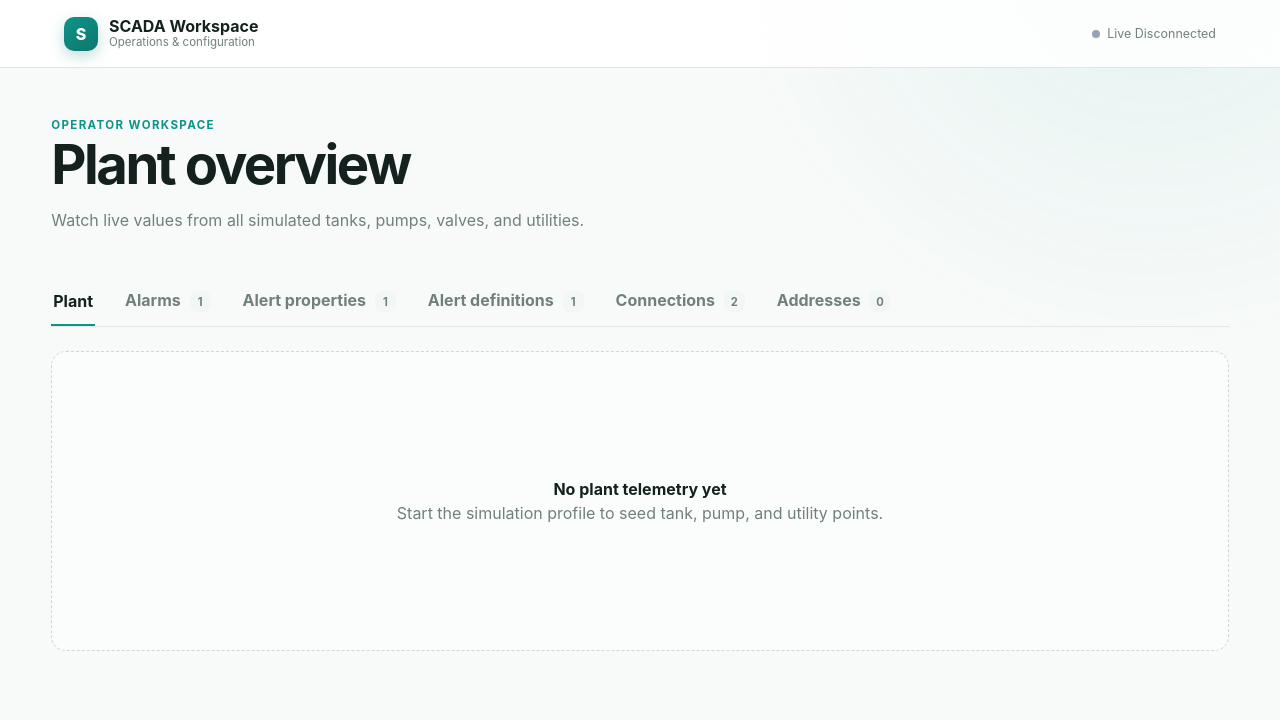
Test case: Modbus Designer › shows current alarms and acknowledges a pending episode
The image size is (1280, 720).
Click the button "Alarms 1": coordinates (168, 302) [123, 278, 213, 326]
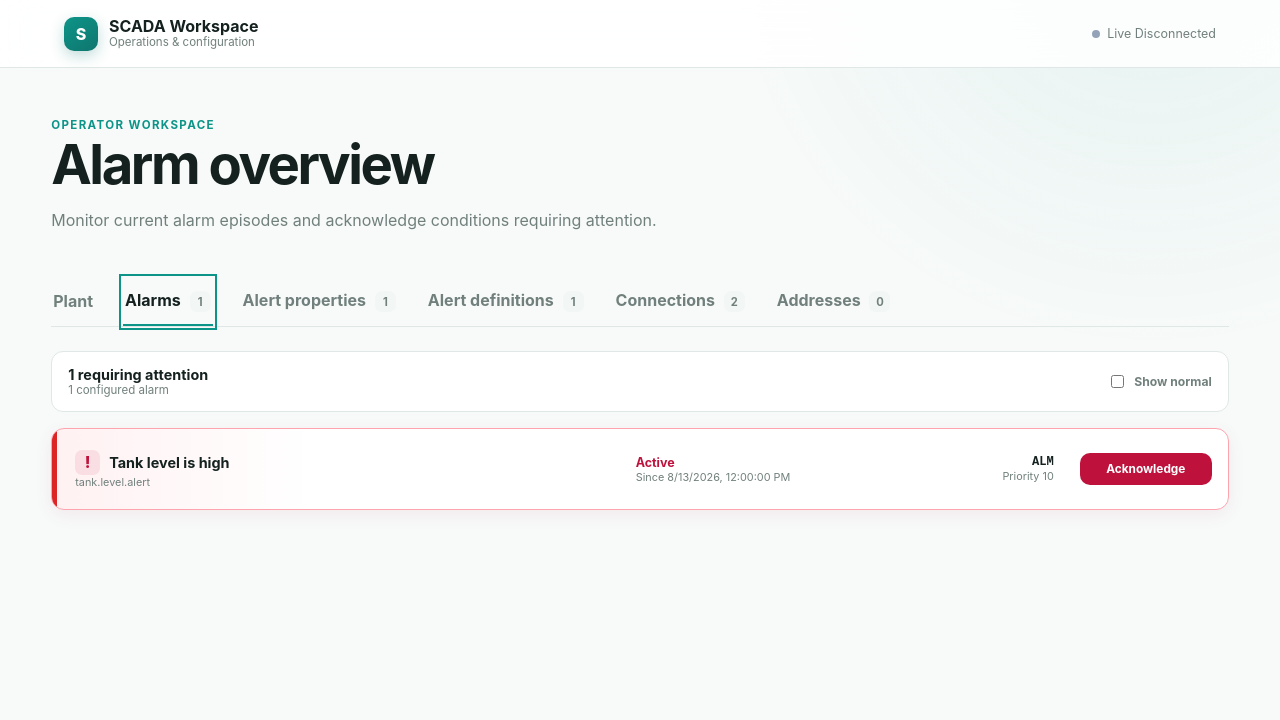
expect the text "Tank level is high" is shown: met, box [109, 454, 230, 471]
Click the button "Acknowledge": coordinates (1146, 469) [1080, 453, 1212, 485]
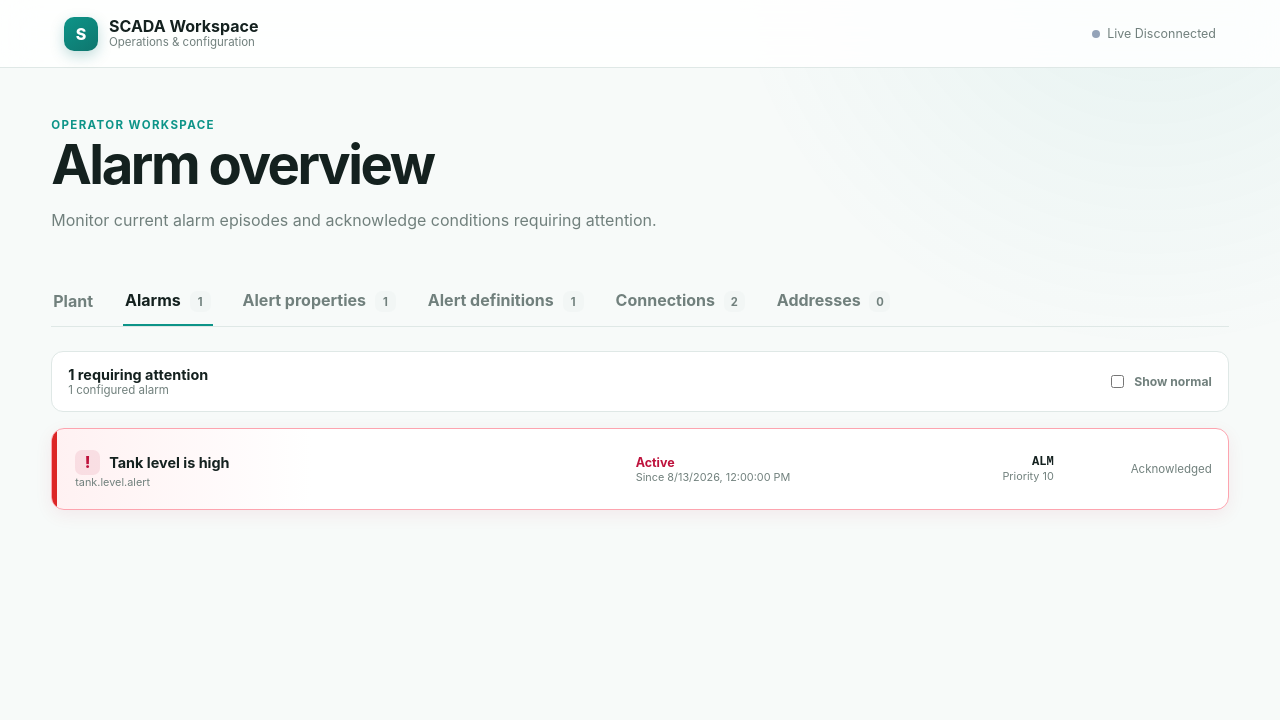
expect the text "Acknowledged" is shown: met, box [1131, 462, 1212, 476]
